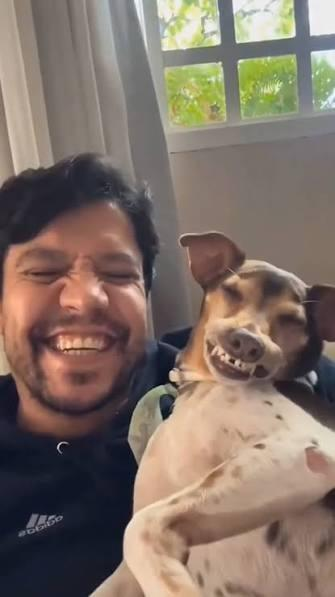adult_dog: (91, 227, 335, 597)
non-dog: (1, 151, 165, 597)
